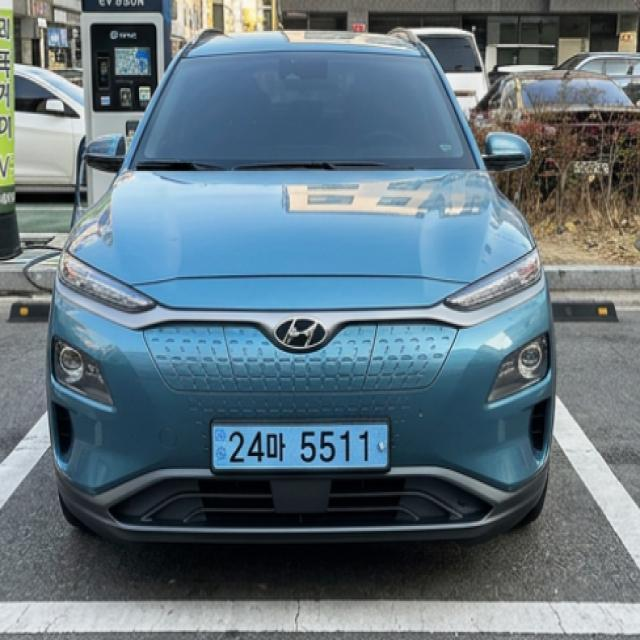car: (198, 409, 405, 485)
carev: (369, 419, 391, 474), (208, 421, 230, 474)
